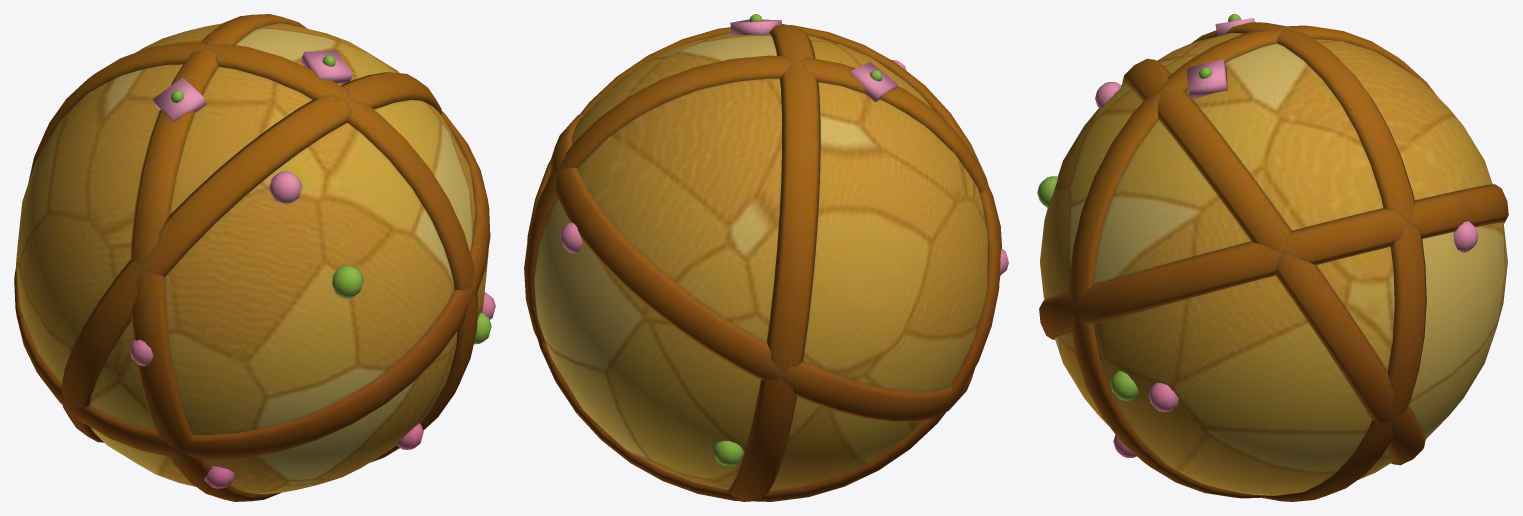
The model's file is hay_bale_3_high.glb.
The picture shows the model from 3 angles, left to right: view 1: azimuth 30°, elevation 25°; view 2: azimuth 150°, elevation 25°; view 3: azimuth 270°, elevation 25°; orthographic projection.
Parts seen in each view (by area): view 1: hay_bale_3; view 2: hay_bale_3; view 3: hay_bale_3.
Part boxes in pixels (box(x1,y1,x2,y2)): hay_bale_3: box(14, 14, 495, 501); hay_bale_3: box(524, 14, 1008, 501); hay_bale_3: box(1037, 14, 1508, 501).
Bounding box in the file's own units: 0.62 × 0.6337 × 0.6246.
Materials: 1 (1 with a texture image).
